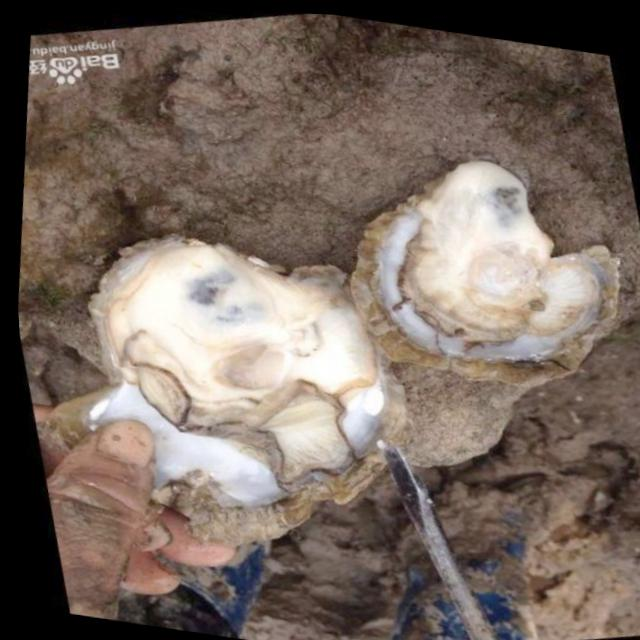Oyster-Open: (58, 216, 432, 552), (332, 141, 635, 401)
